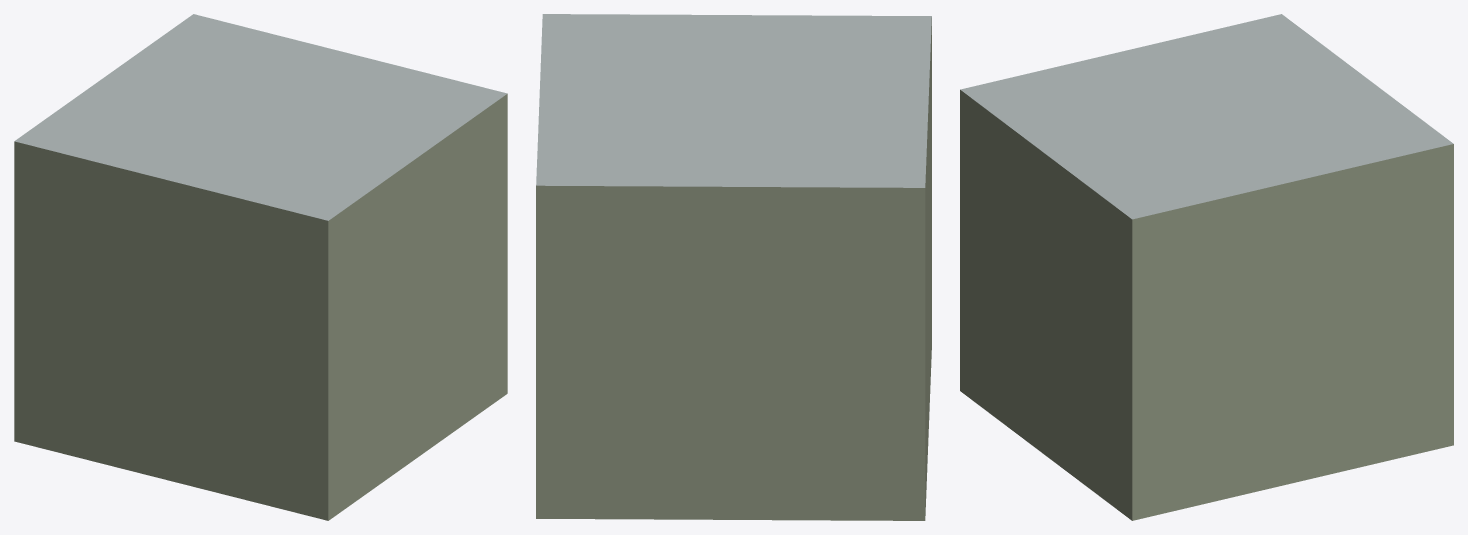
Rendered from nyc-1085736-0.glb.
3 views of the same model, side by side, from view 1: azimuth 30°, elevation 25°; view 2: azimuth 150°, elevation 25°; view 3: azimuth 270°, elevation 25° (orthographic). The views are drawn at different scales.
Visible parts, largest first — view 1: nyc-1085736-0; view 2: nyc-1085736-0; view 3: nyc-1085736-0.
Boxes of the visible parts, bbox=[...] form: nyc-1085736-0: bbox=[14, 14, 507, 520]; nyc-1085736-0: bbox=[536, 14, 931, 520]; nyc-1085736-0: bbox=[960, 14, 1453, 520].
Size of the model in its own units: 41.44 by 28.35 by 42.08.
